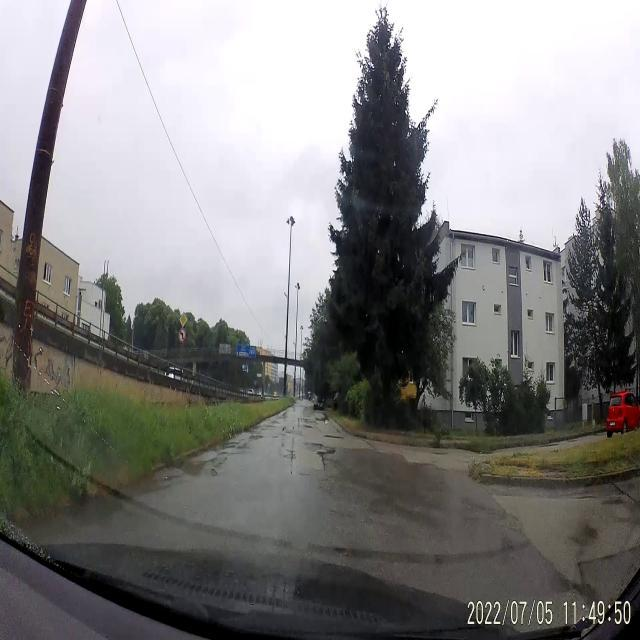Pothole: (324, 434, 343, 440), (284, 454, 297, 460), (211, 468, 218, 476)
